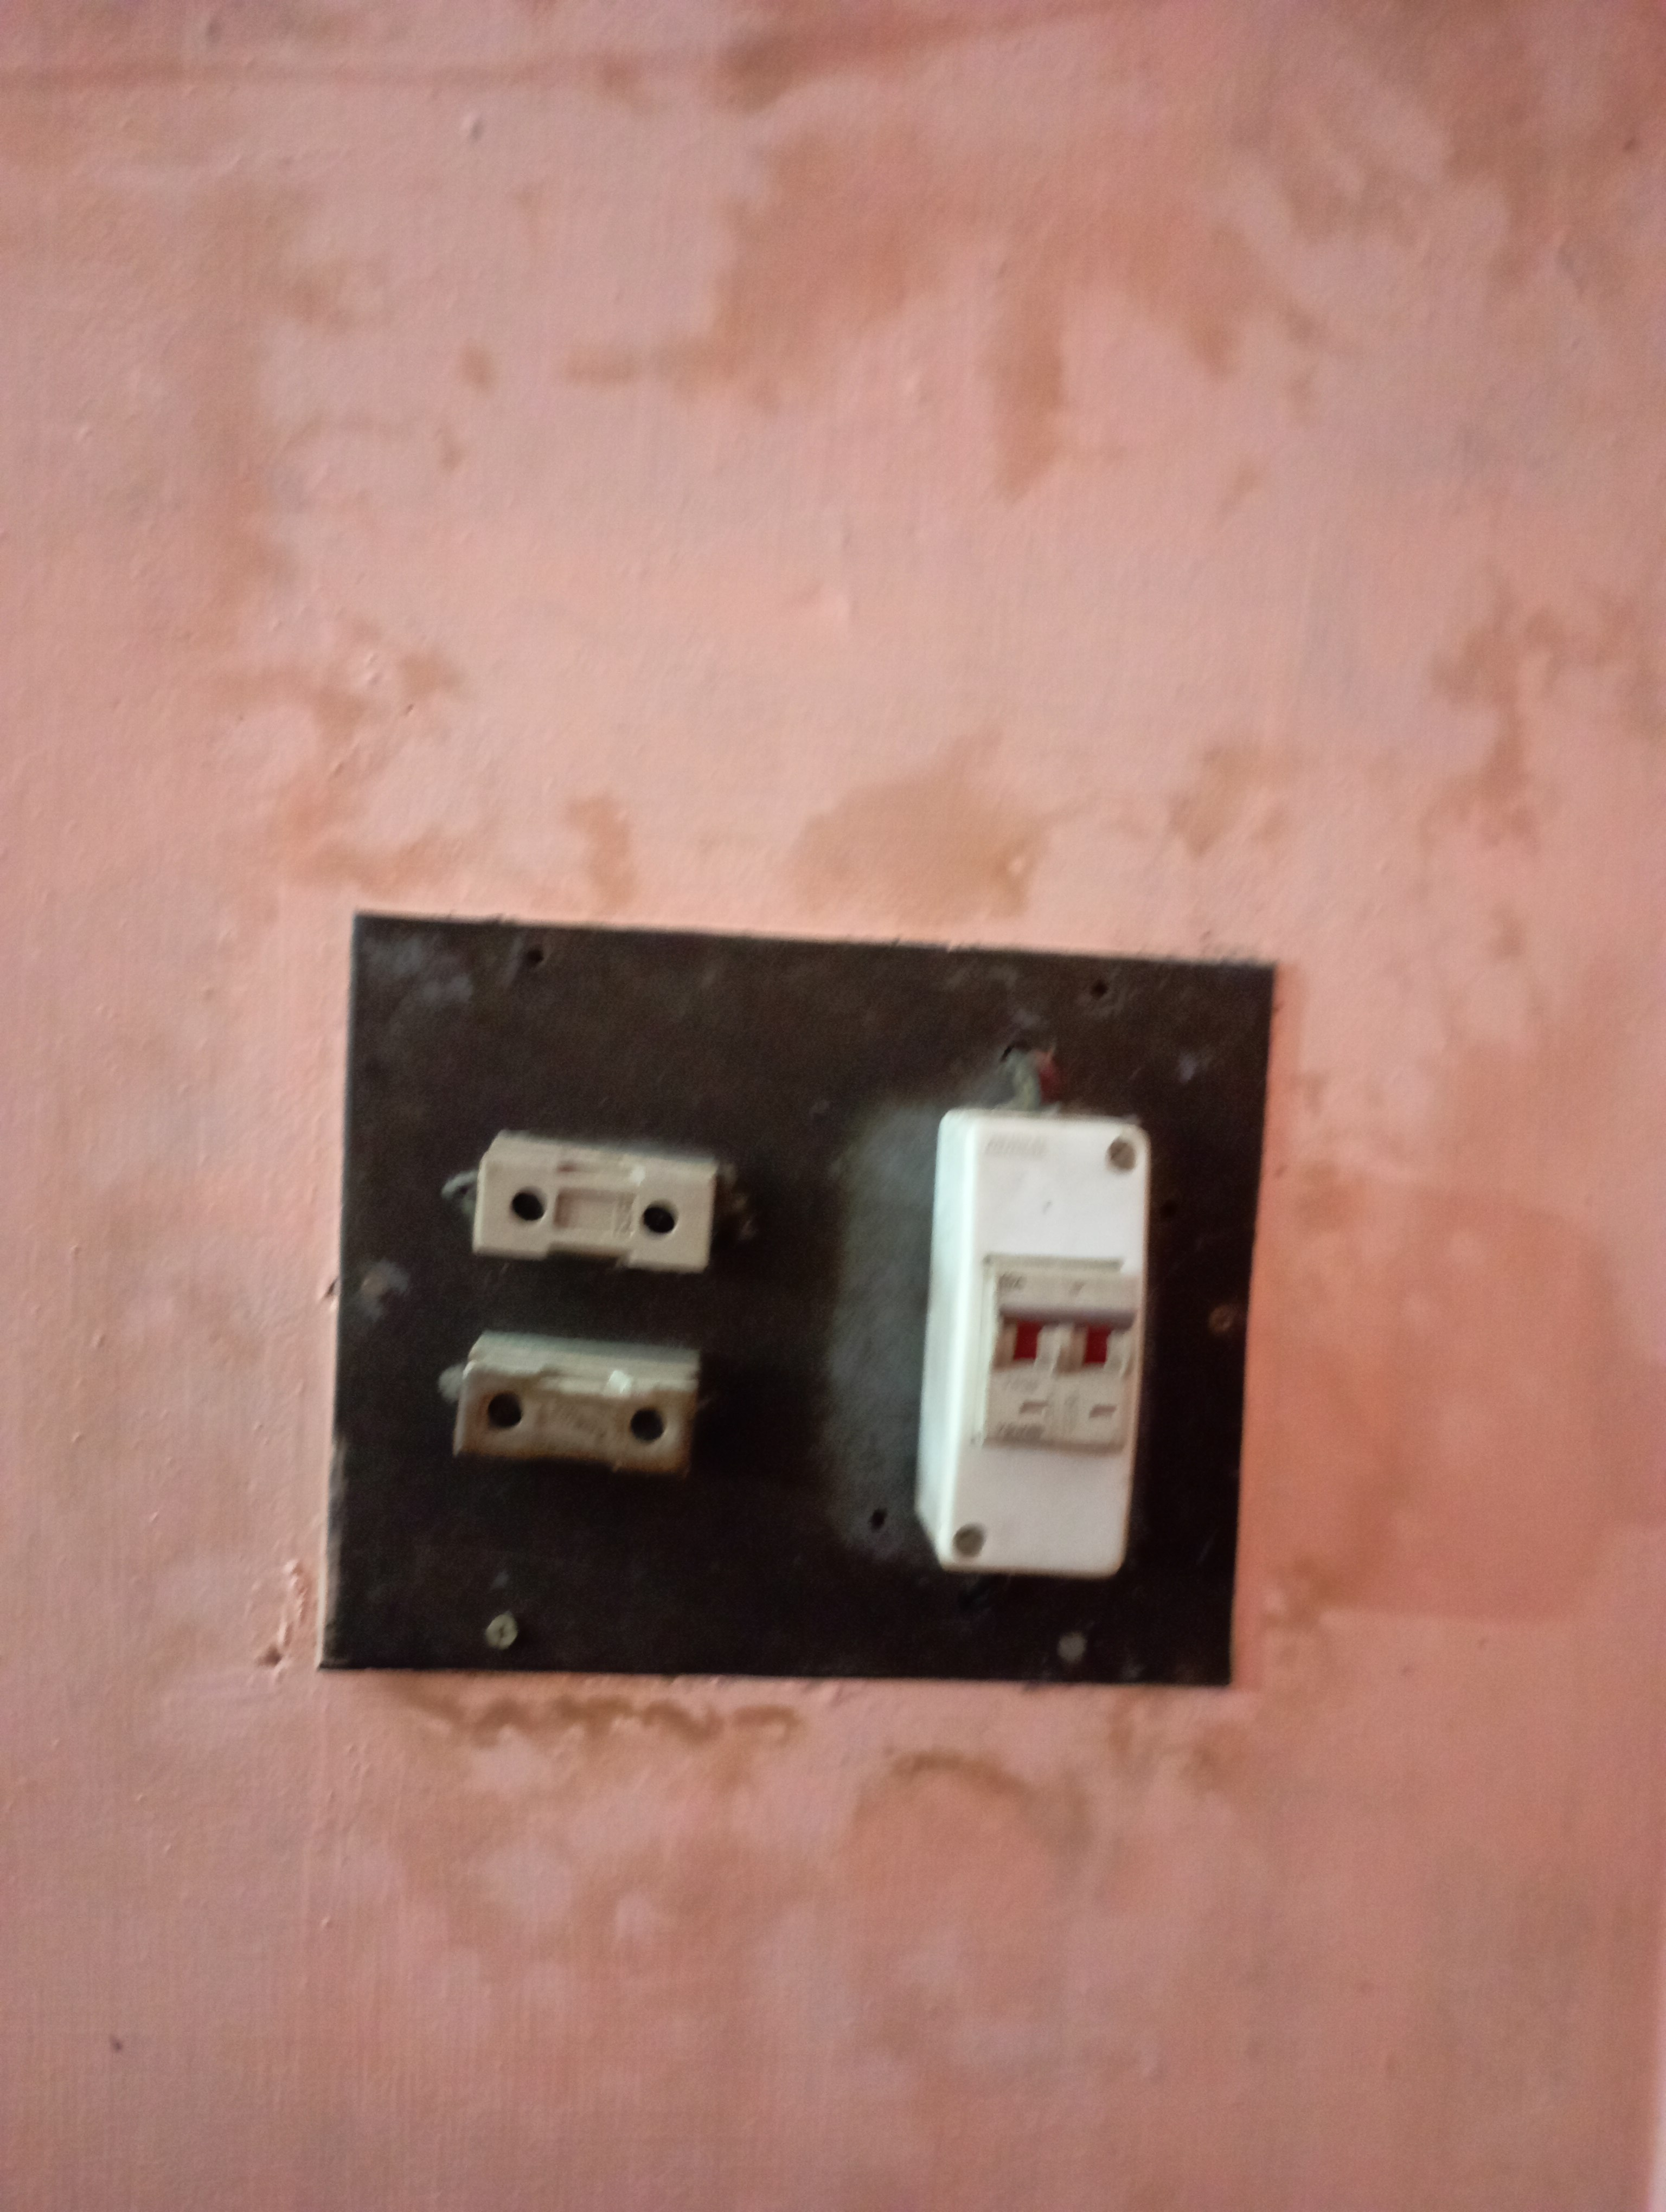ciruit_breaker: (900, 1093, 1155, 1626)
fuse: (459, 1110, 740, 1269), (459, 1325, 705, 1485)
